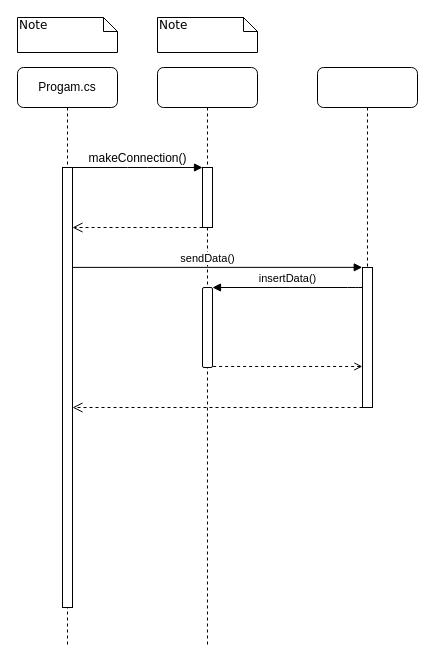
Some shapes in this 435 by 665 pixel diagram are drawn without their labels. Each missing label, with the centre of its shape:
"DatabaseHandler" goes at point 207,357.
"DbMovies" goes at point 367,237.
